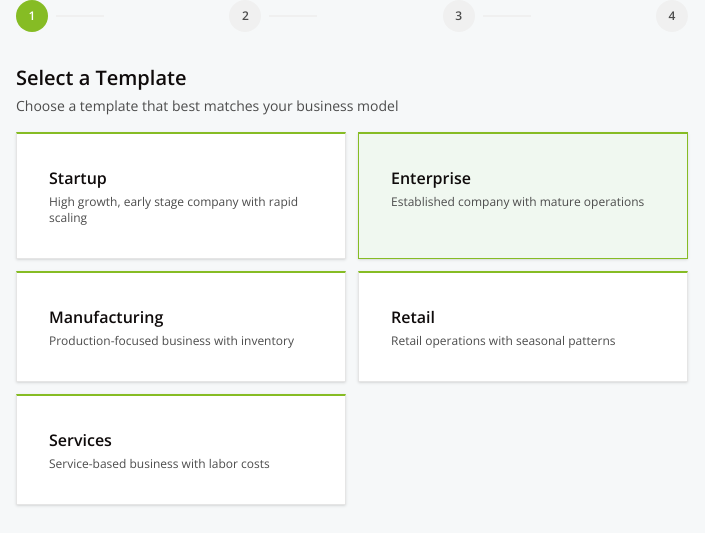
it: FinancialModelWizard › advances to the assumptions step after a template is chosen
The image size is (705, 533).
Click the heading "Startup".
click(78, 178)  # box [49,167,107,189]
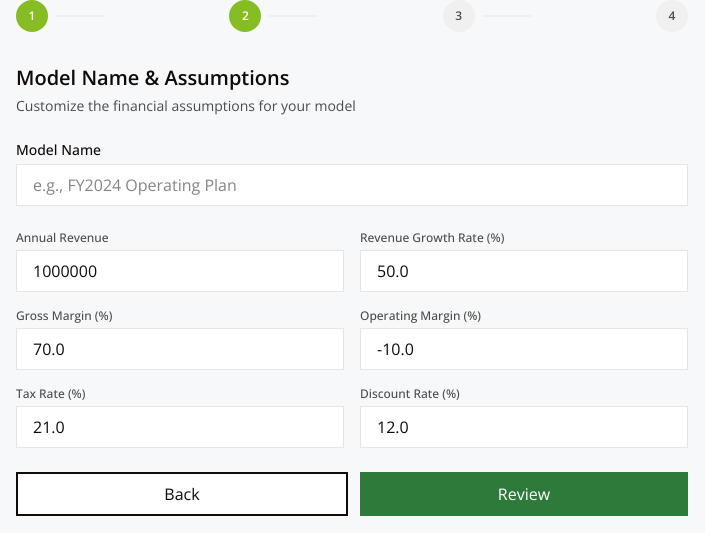
Result: the heading "Select a Template" is gone
Result: the button "Back" is shown at [16,472,348,516]
